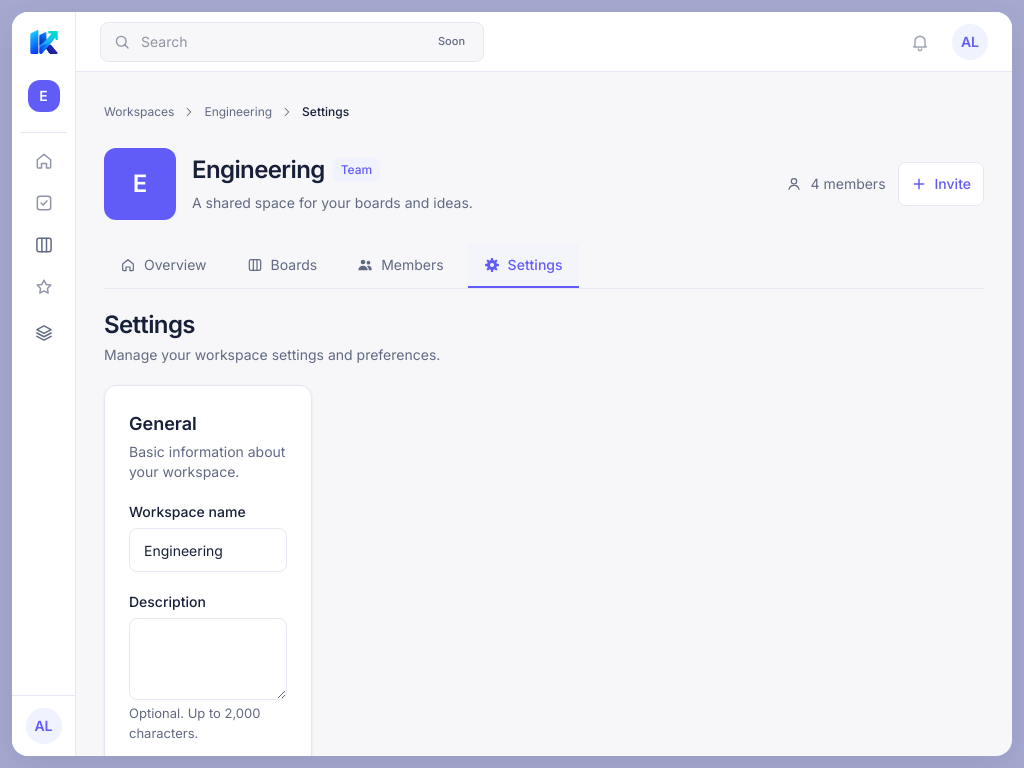
Test: Workspace Settings responsive draft — general › preserves a failed save and dirty state across resize
This screenshot has width=1024, height=768.
Replace the text in the field labelled "Workspace name" with "Private draft" at (208, 550), box [129,528,287,572]
(page scrolled)
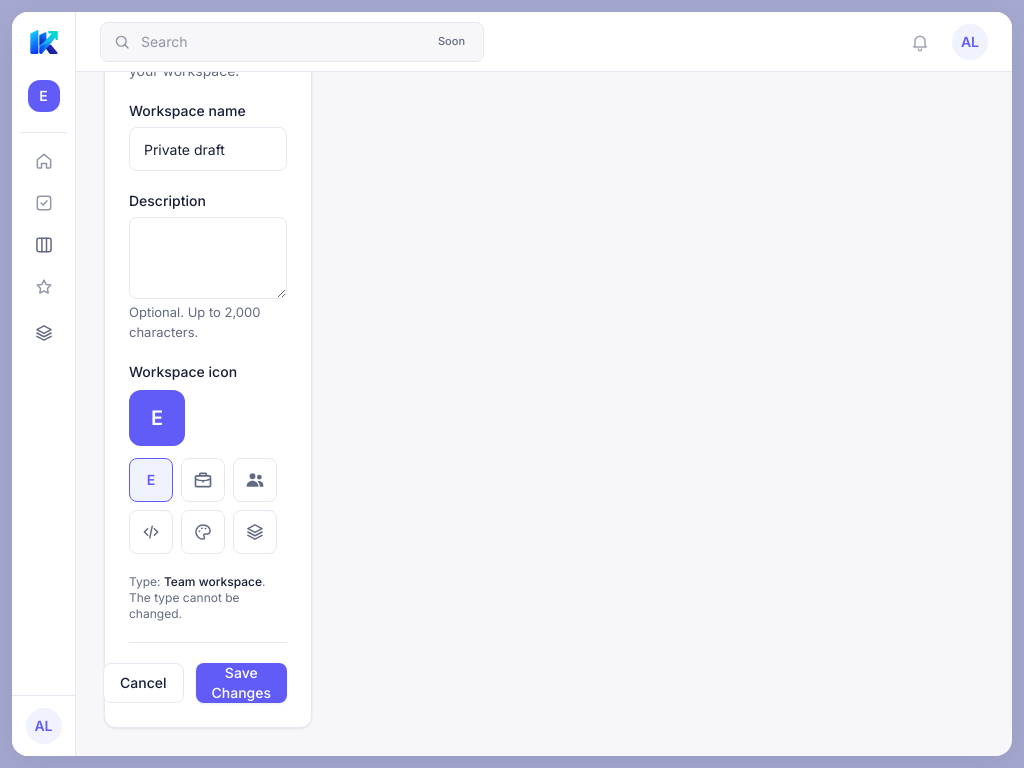
Click the button "Save Changes" at (241, 683), box [196,663,287,703]
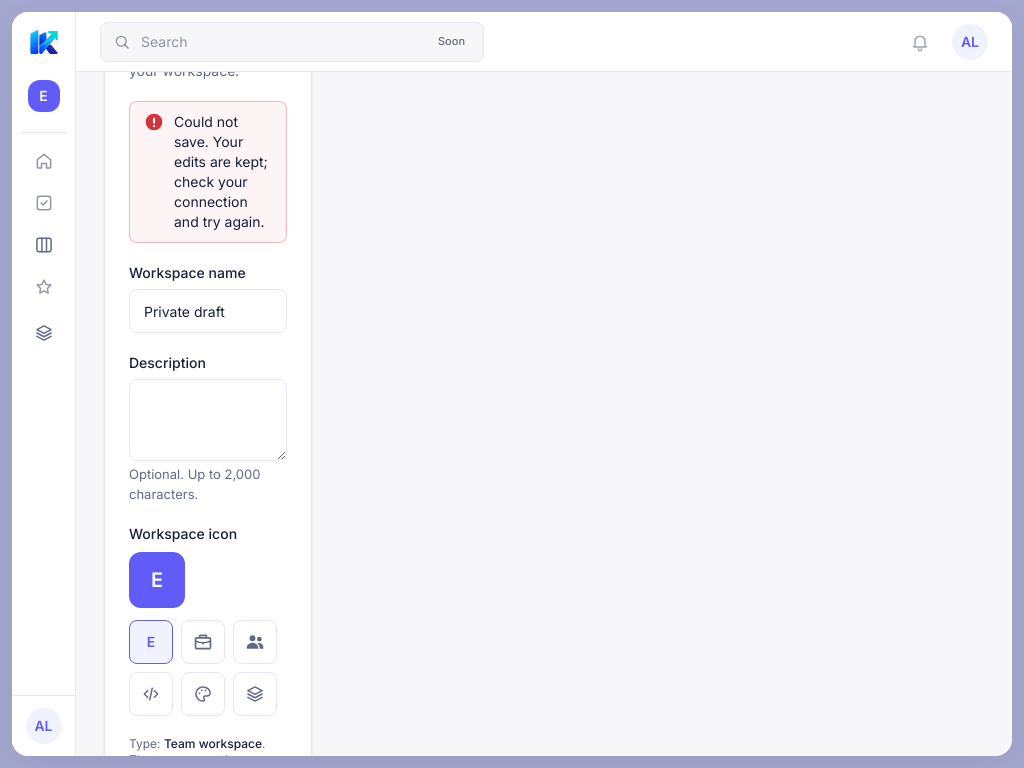
Now the message "Could not save. Your edits are kept; check your connection and try again." is shown, box [129,101,287,243]
Now the message shows "kept", box [174,113,268,230]
